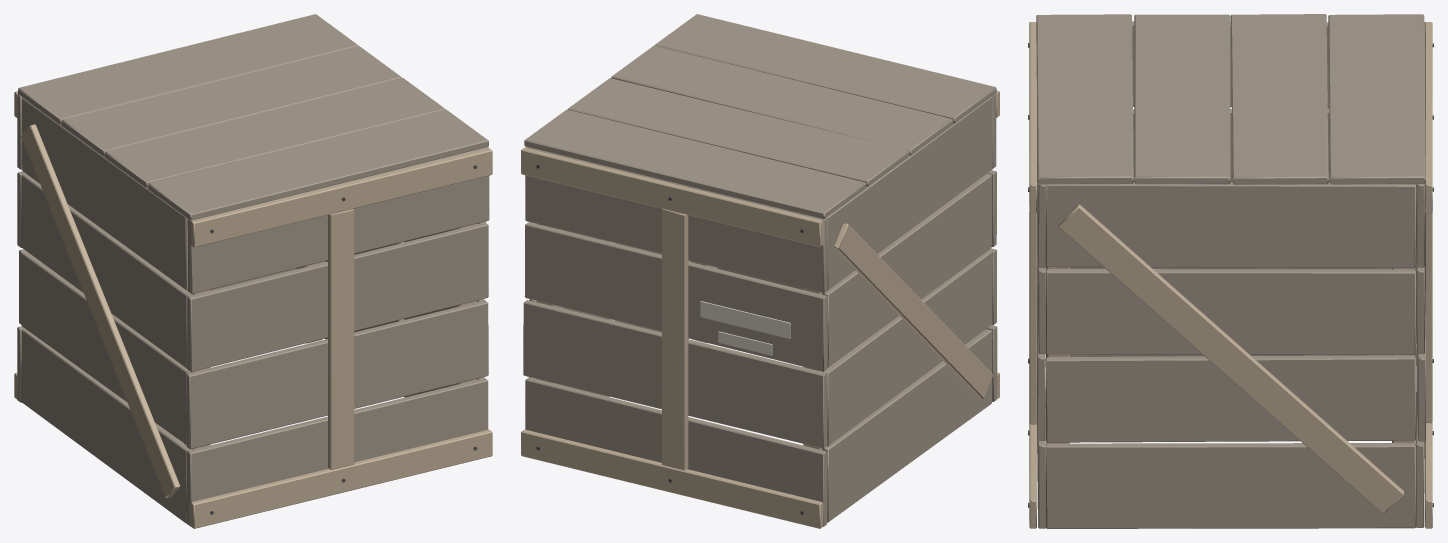
Rendered from crate_slat.glb.
3 renders of one model, left to right at view 1: azimuth 30°, elevation 25°; view 2: azimuth 150°, elevation 25°; view 3: azimuth 270°, elevation 25°, orthographic. The views are drawn at different scales.
Visible parts, largest first — view 1: static; view 2: static; view 3: static.
Part boxes in pixels (x1,y1,x2,y2): static: (14,14,492,528); static: (521,14,999,528); static: (1028,14,1433,528).
Size of the model in its own units: 1.04 by 1 by 1.05.
